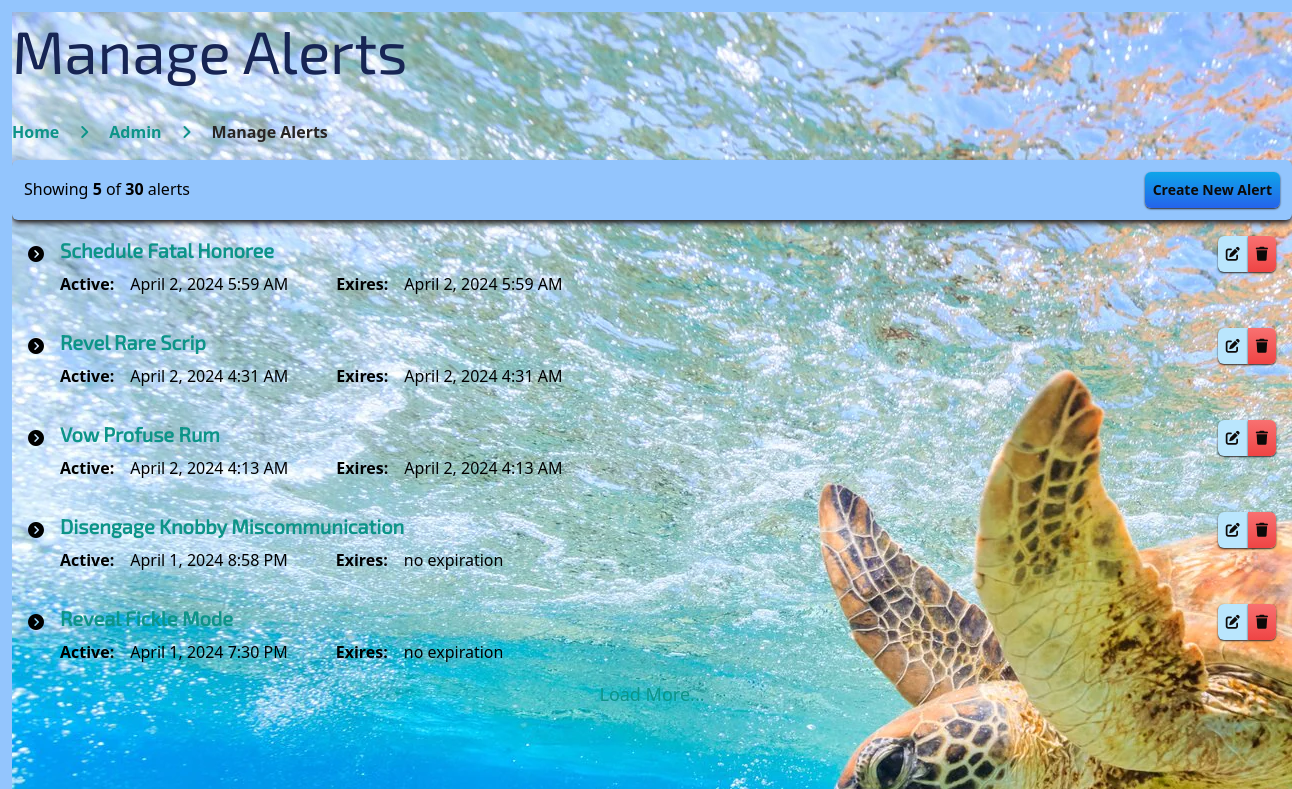
Admin Alerts View › will load more alerts
Click the button with test id "btn-load-more" at (652, 694), box [600, 680, 705, 708]
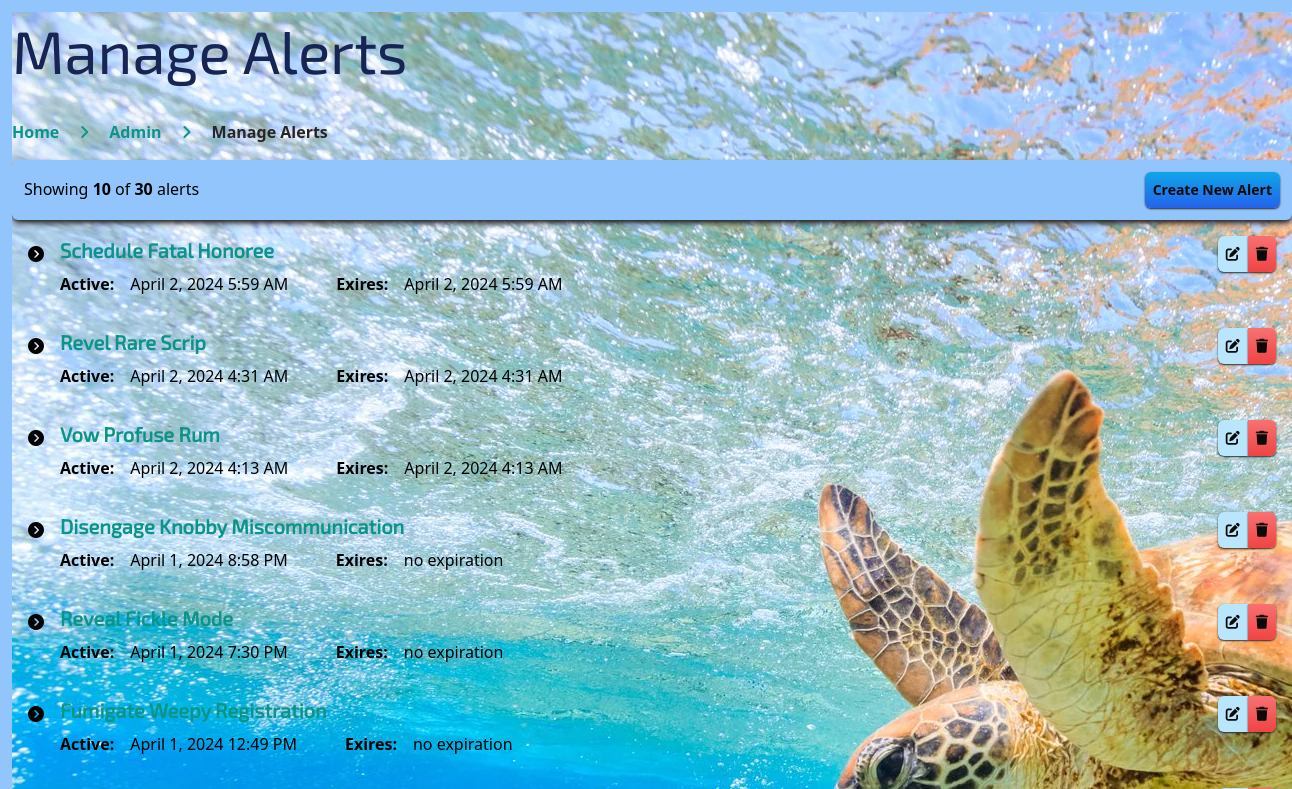
Result: the number of "alerts-list-item" components is 10
